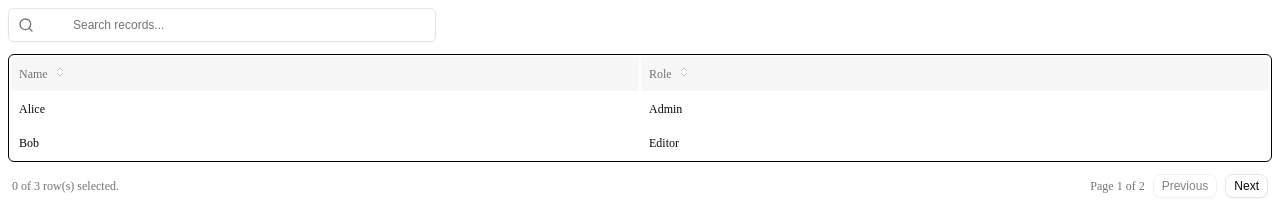
Test: GenericDataTable › supports pagination controls
This screenshot has width=1280, height=215.
expect the text "Alice" is shown: met, box [11,93,639,125]
expect the text "Bob" is shown: met, box [11,127,639,159]
What coordinates should you click on to do the following:
click the button "Next"
I would click on:
 (1247, 186)
Its box is [1225,174,1268,198].
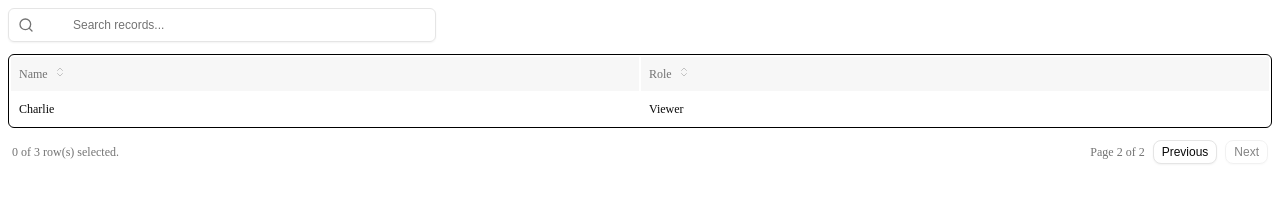
expect the text "Charlie" is shown: met, box [11,93,639,125]
